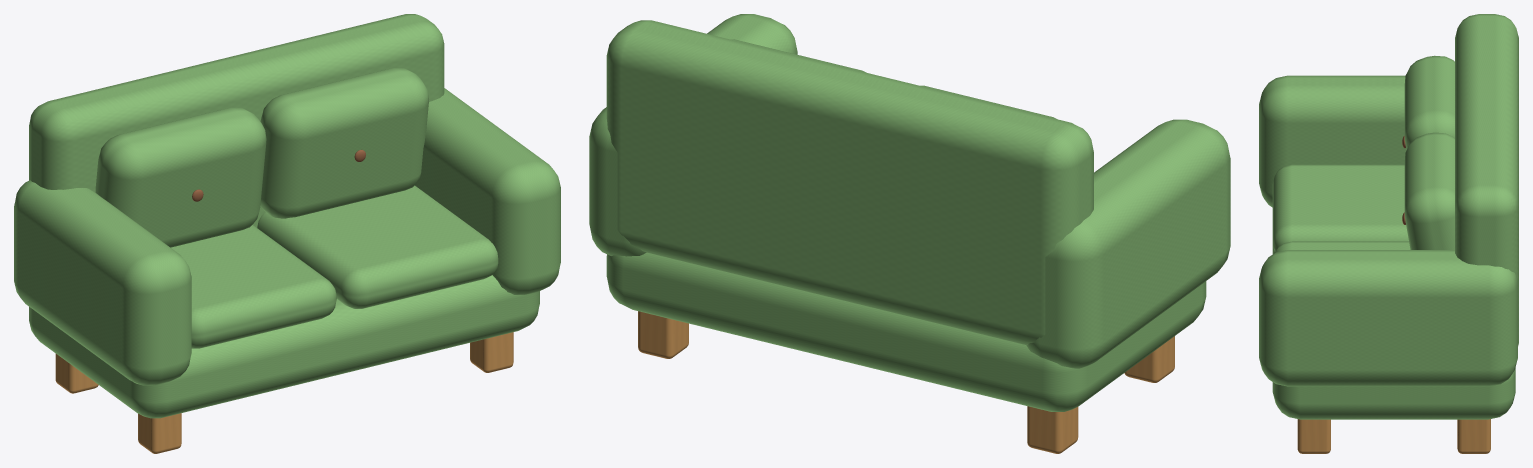
The model's file is SOFA.glb.
3 views of the same model, side by side, from view 1: azimuth 30°, elevation 25°; view 2: azimuth 150°, elevation 25°; view 3: azimuth 270°, elevation 25° (orthographic). The views are drawn at different scales.
Parts seen in each view (by area): view 1: SOFA; view 2: SOFA; view 3: SOFA.
Part boxes in pixels (left/top/right/bottom): SOFA: left=14, top=14, right=560, bottom=453; SOFA: left=589, top=14, right=1230, bottom=453; SOFA: left=1259, top=14, right=1518, bottom=453.
Bounding box in the file's own units: 1.52 × 0.93 × 0.813.
4 materials, 3 textured.
